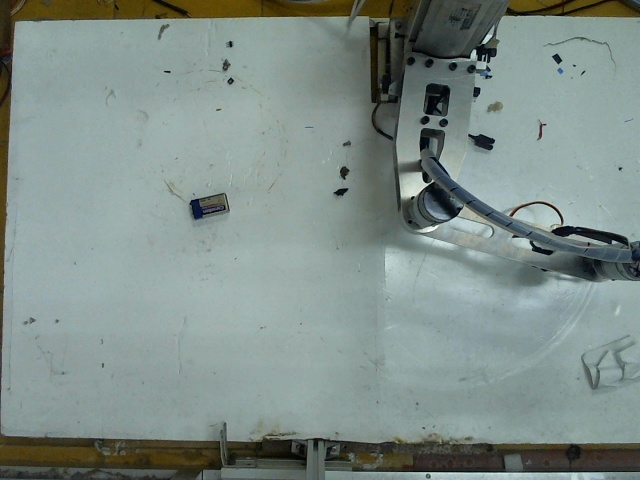battery: (184, 188, 229, 219)
